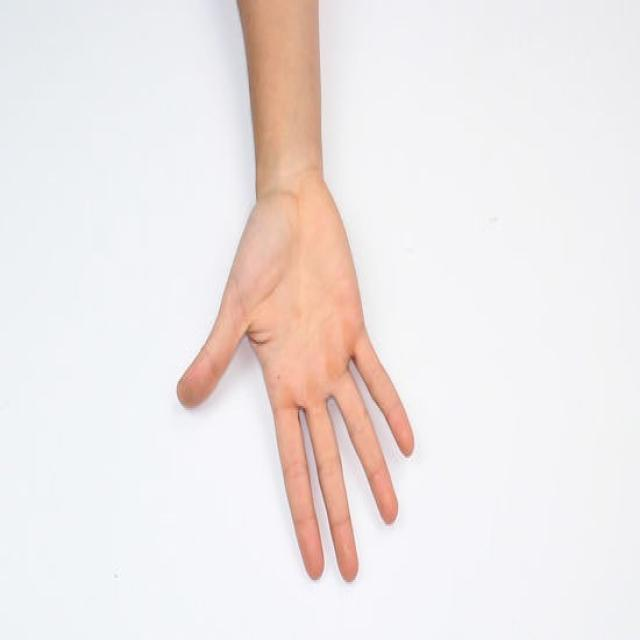no-gloves: (175, 168, 415, 584)
